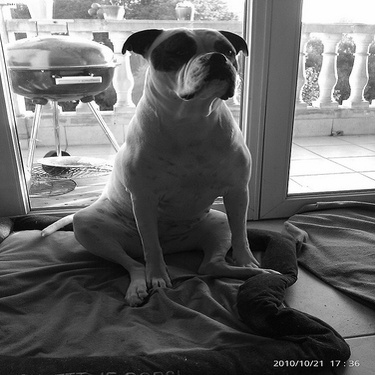dog: (41, 20, 287, 308)
